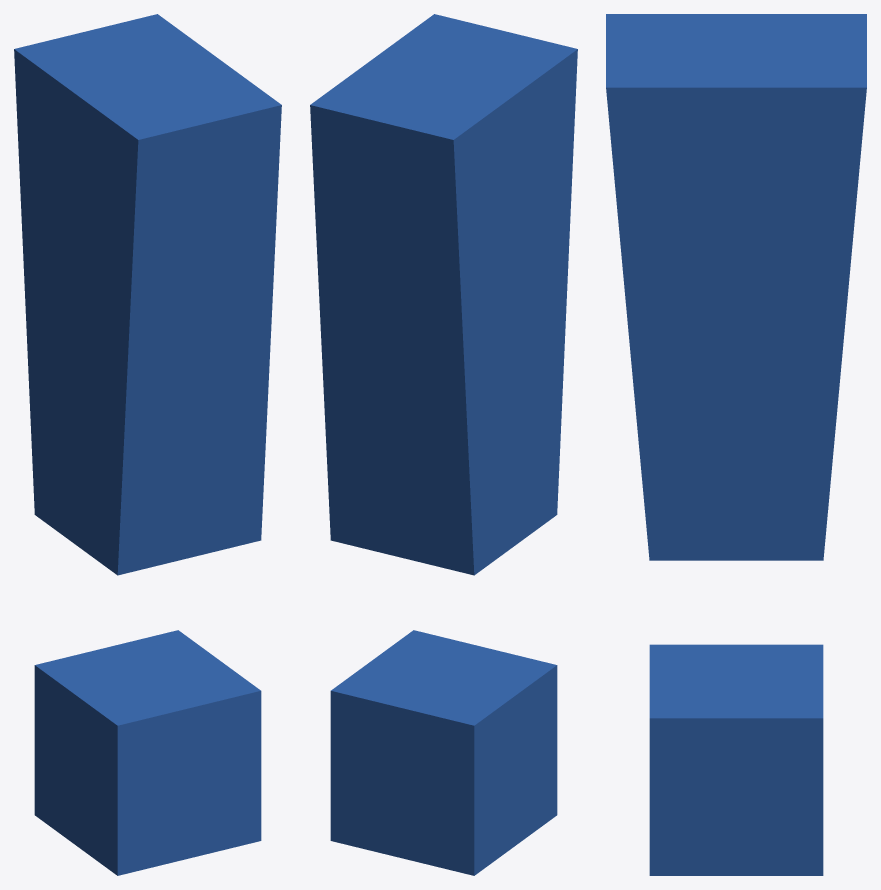
File: exclamation.glb
3 renders of one model, left to right at view 1: azimuth 30°, elevation 25°; view 2: azimuth 150°, elevation 25°; view 3: azimuth 270°, elevation 25°, orthographic. The views are drawn at different scales.
Visible parts, largest first — view 1: Cube; view 2: Cube; view 3: Cube.
Part boxes in pixels (left/top/right/bottom): Cube: left=14, top=14, right=281, bottom=875; Cube: left=310, top=14, right=577, bottom=875; Cube: left=606, top=14, right=866, bottom=875.
Size of the model in its own units: 1 by 5 by 1.5.
Materials: 1 (1 with a texture image).
